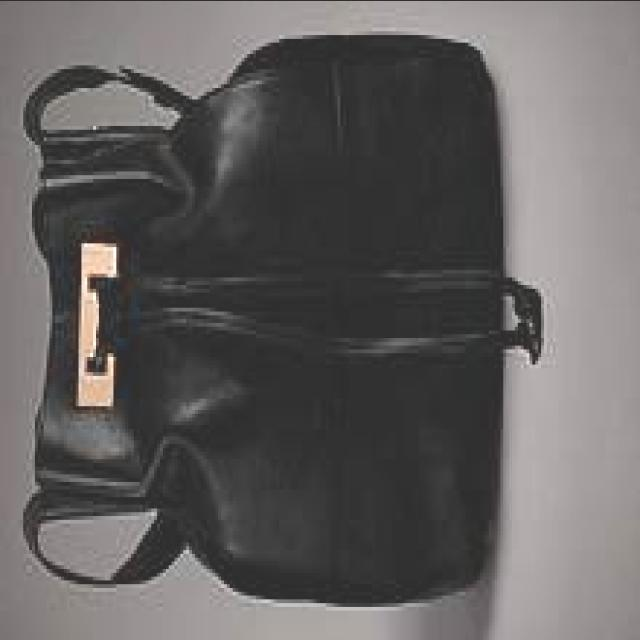backpack: (19, 35, 539, 611)
